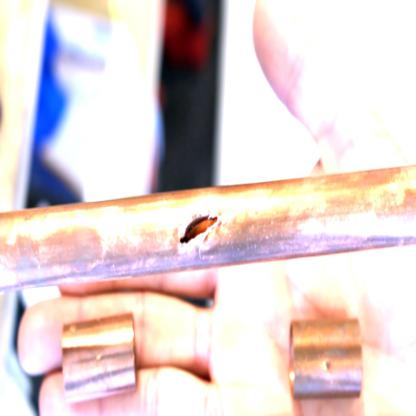burst: (177, 210, 220, 252)
